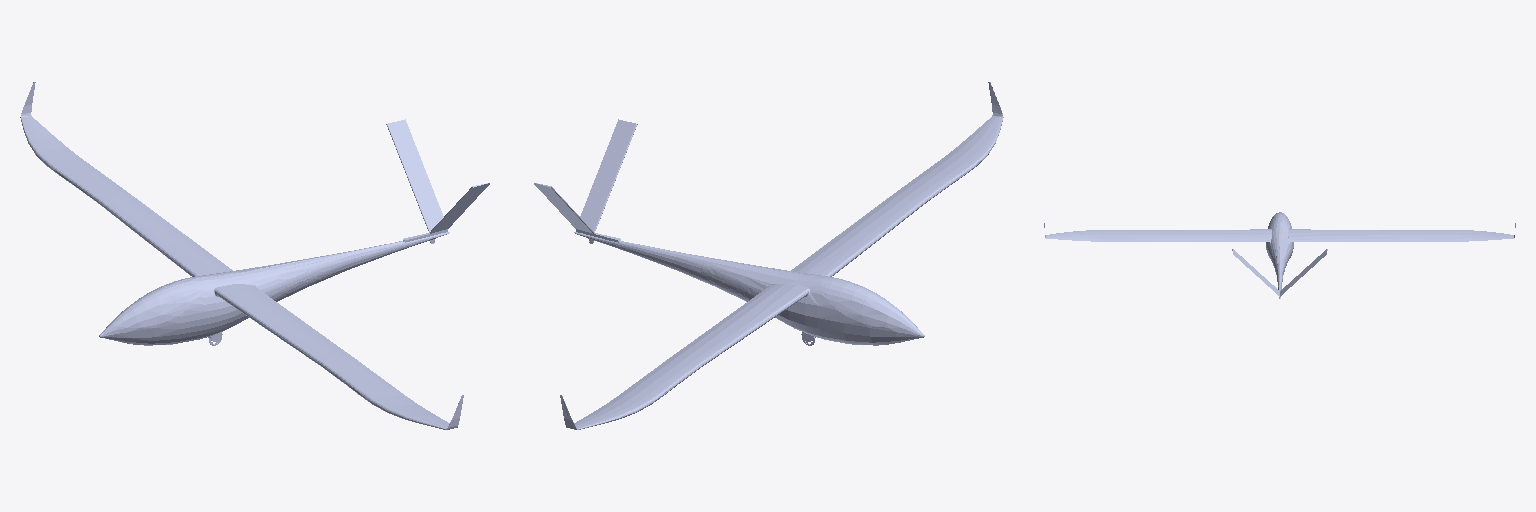
The robot description file, URDF, robot "Glider":
<?xml version="1.0" encoding="utf-8"?>
<!-- This URDF was automatically created by SolidWorks to URDF Exporter! Originally created by [author] ([email redacted]) 
     Commit Version: 1.6.0-4-g7f85cfe  Build Version: 1.6.7995.38578
     For more information, please see http://wiki.ros.org/sw_urdf_exporter -->
<robot
  name="Glider">
  <link
    name="base_link">
    <inertial>
      <origin
        xyz="-0.0689138683708013 3.56575167401729E-05 -0.103915084118277"
        rpy="0 0 0" />
      <mass
        value="2333.86954021111" />
      <inertia
        ixx="7572.21967217386"
        ixy="0.00893245825970806"
        ixz="-204.161009325592"
        iyy="2485.87500976349"
        iyz="0.000832270637562989"
        izz="9723.54347009051" />
    </inertial>
    <visual>
      <origin
        xyz="0 0 0"
        rpy="0 0 0" />
      <geometry>
        <mesh
          filename="../meshes/base_link.STL" />
      </geometry>
      <material
        name="">
        <color
          rgba="0.792156862745098 0.819607843137255 0.933333333333333 1" />
      </material>
    </visual>
    <collision>
      <origin
        xyz="0 0 0"
        rpy="0 0 0" />
      <geometry>
        <mesh
          filename="../meshes/base_link.STL" />
      </geometry>
    </collision>
  </link>
</robot>

--- What the picture shows (computed from the rendered views, not written in the file) ---
The picture shows the robot from 3 angles, left to right: view 1: azimuth 30°, elevation 25°; view 2: azimuth 150°, elevation 25°; view 3: azimuth 270°, elevation 25°; orthographic projection.
Robot: Glider — 1 links, 0 joints (none); root link base_link; default pose: every joint at zero.
Links seen in each view (by area): view 1: base_link; view 2: base_link; view 3: base_link.
Boxes of the visible links, x1,y1,x2,y2 form: base_link: [20, 82, 489, 429]; base_link: [534, 82, 1003, 429]; base_link: [1044, 212, 1515, 298].
Size in the robot's own frame: 6.67 by 14.1 by 2.51 metres.
1 mesh visuals loaded from 1 distinct referenced files (1 binary STL).
